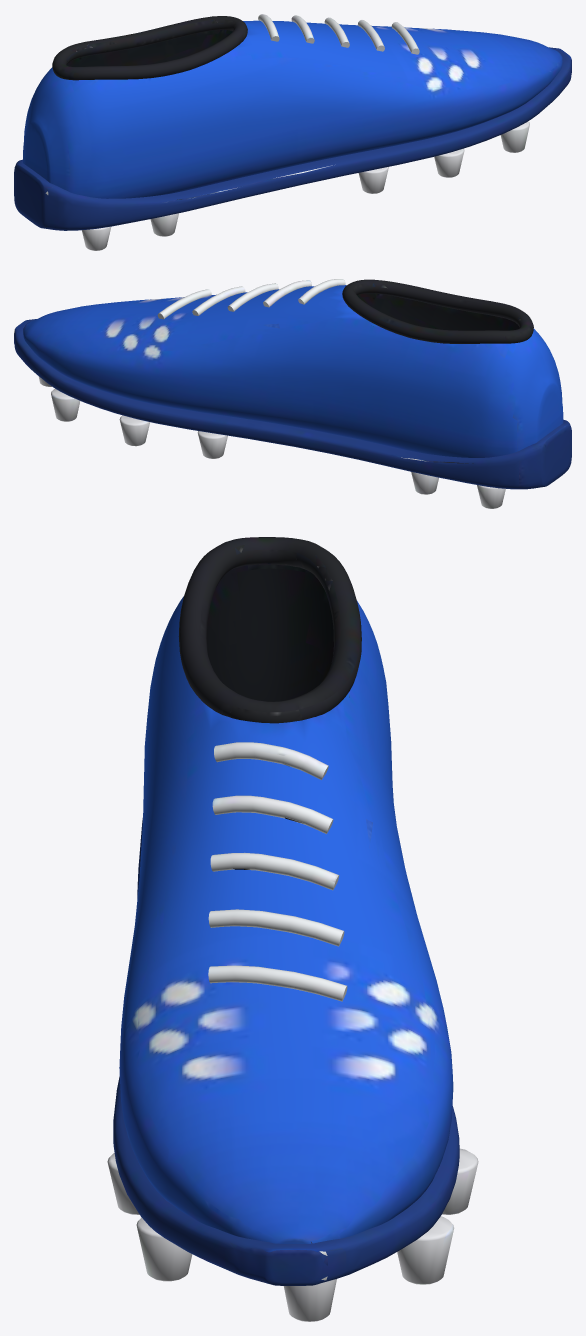
Rendered from boot-control.glb.
3 renders of one model, top to bottom at view 1: azimuth 30°, elevation 25°; view 2: azimuth 150°, elevation 25°; view 3: azimuth 270°, elevation 25°, orthographic. The views are drawn at different scales.
Parts seen in each view (by area): view 1: boot-control; view 2: boot-control; view 3: boot-control.
Boxes of the visible parts, left/top/right/bottom form: boot-control: left=14, top=14, right=571, bottom=250; boot-control: left=14, top=279, right=571, bottom=508; boot-control: left=107, top=537, right=478, bottom=1321.
Bounding box in the file's own units: 0.298 × 0.0912 × 0.0901.
Materials: 6 (6 with a texture image).
